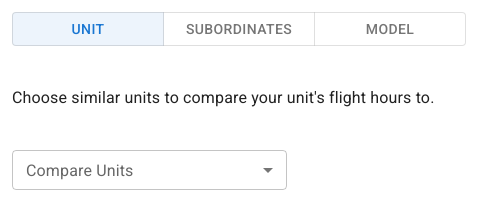
Scenario: HoursFlown component › HoursFlown Component › renders the correct graph based on the view type
The image size is (499, 207).
Expected: the button "UNIT" is shown, [12,12,164,46]
Expected: the button "MODEL" is shown, [314,12,466,46]
Step 1. Click the button "SUBORDINATES" → (239, 29), box [163,12,315,46]
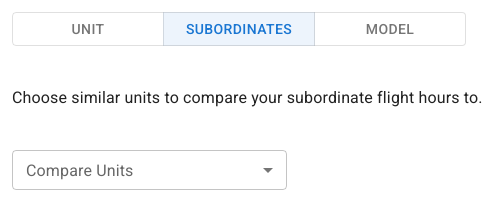
Now the text "Choose similar units to compare your subordinate flight hours to." is shown, box [12,88,483,107]
Step 2. Click the button "MODEL" → (390, 29), box [314,12,466,46]
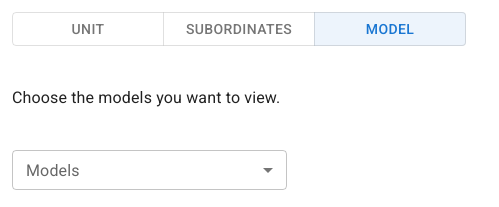
Now the text "Choose the models you want to view." is shown, box [12,88,280,107]
Step 3. Click the button "UNIT" → (88, 29), box [12,12,164,46]
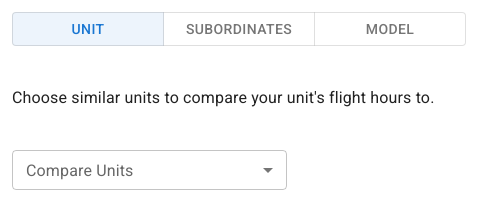
Now the text "Choose similar units to compare your unit's flight hours to." is shown, box [12,88,434,107]
